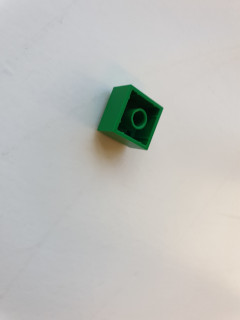2x2 green: (97, 83, 165, 151)
